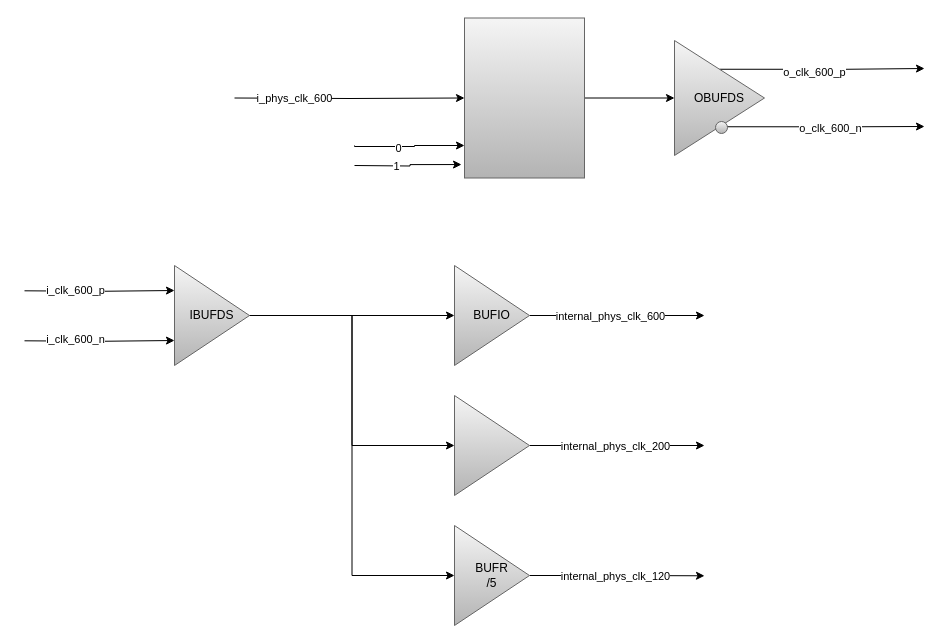
Image size: 950x643. Some labels were removed from this diagram. Here are the shapes that lost their labels. From the top down, the centre of each, then its label:
[524,97]: ODDR
[492,445]: BUFR /3
